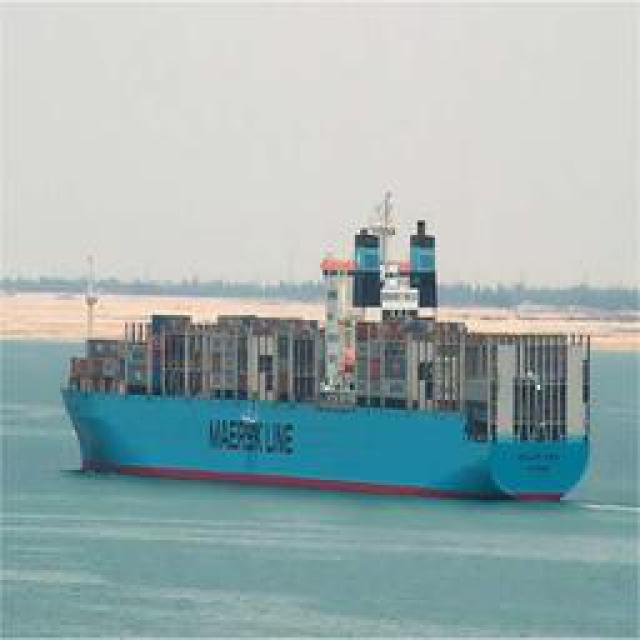Ship: (60, 197, 598, 497)
